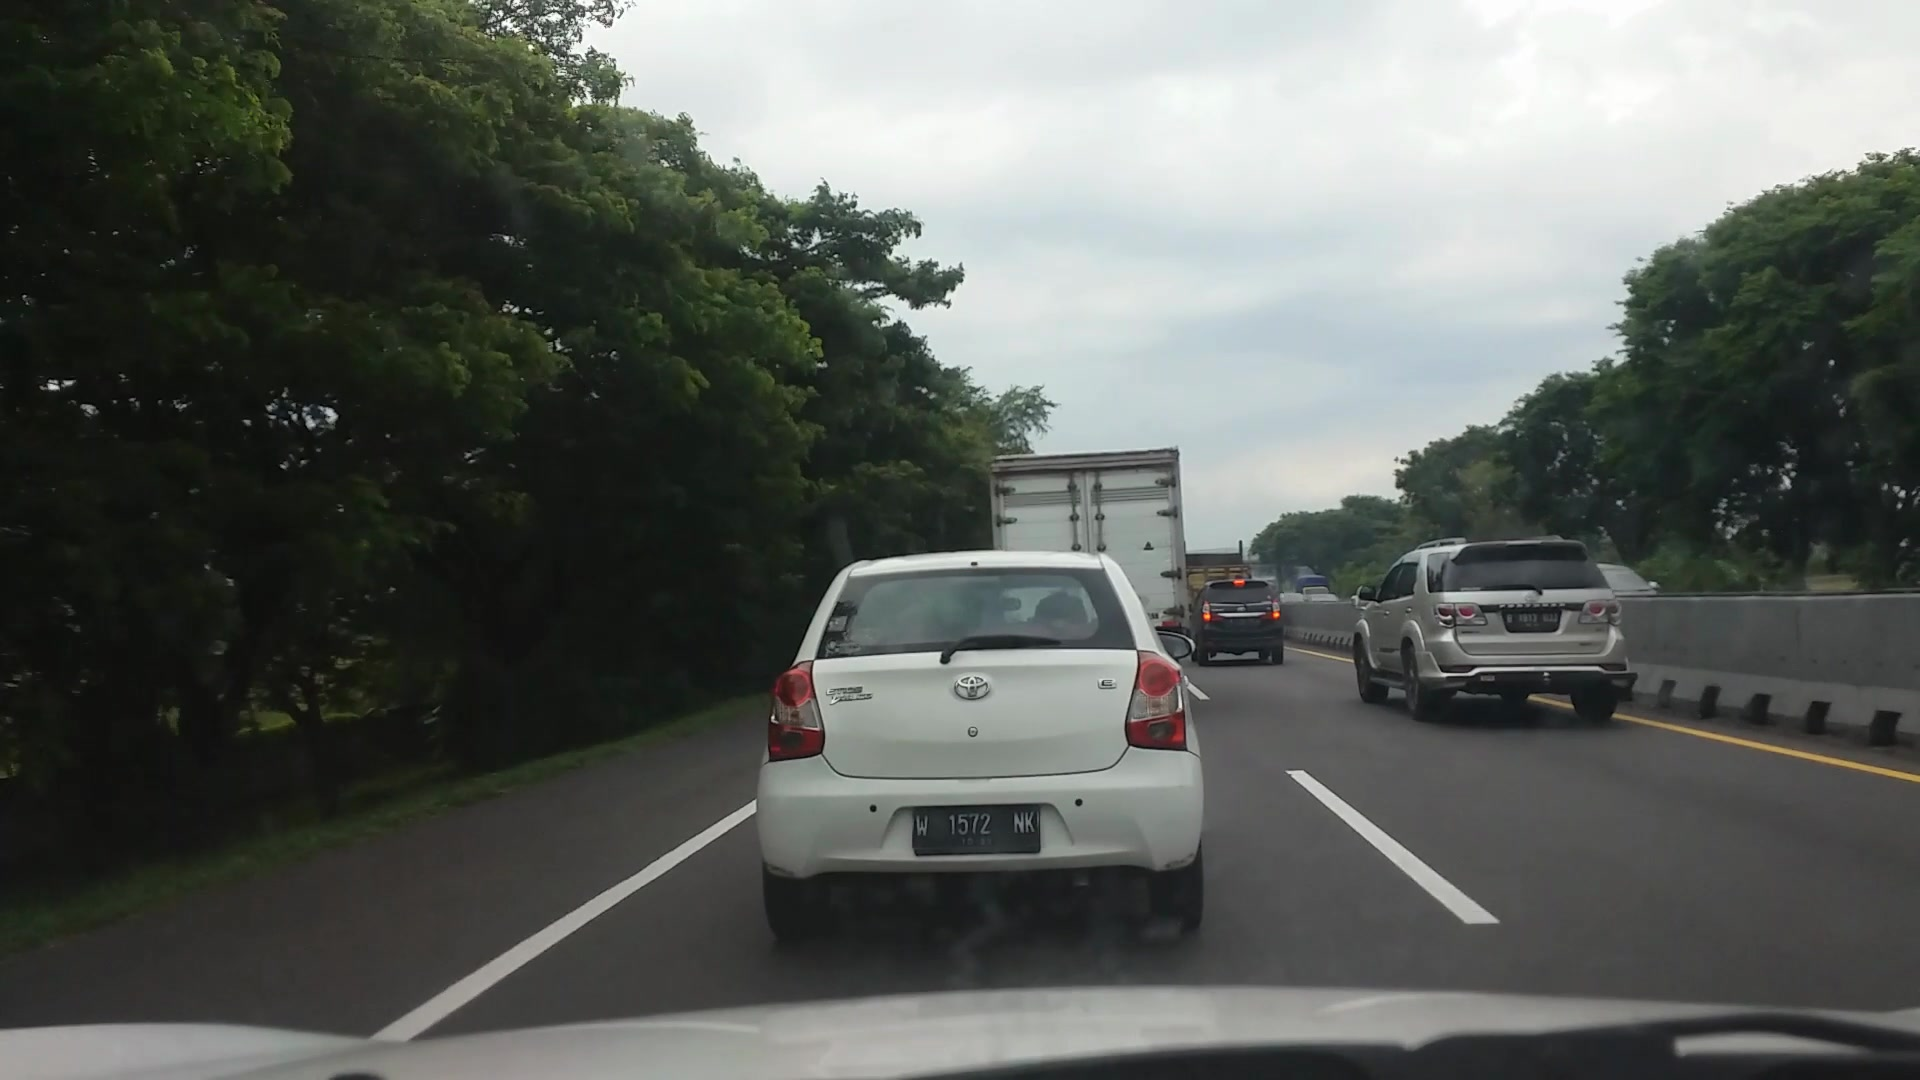plate_positive: (911, 804, 1040, 856), (1505, 611, 1559, 628)
